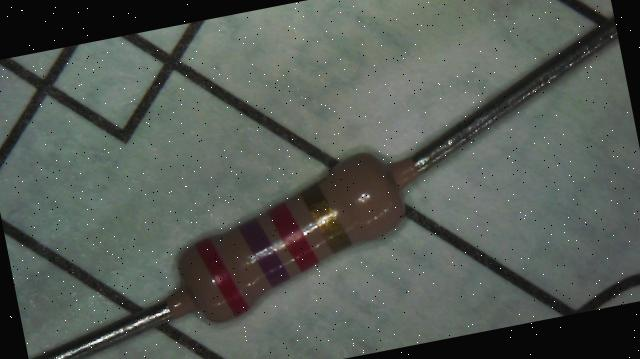gold: (300, 178, 352, 256)
red: (196, 234, 249, 320), (268, 197, 318, 274)
resistor: (137, 127, 448, 348)
violet: (238, 214, 290, 290)
